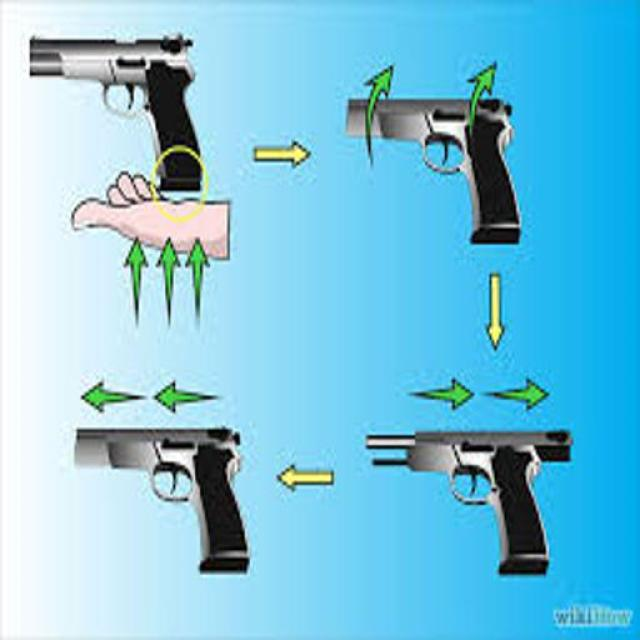pistol: (18, 26, 216, 197), (370, 425, 572, 576), (345, 85, 524, 254), (71, 419, 251, 580)
